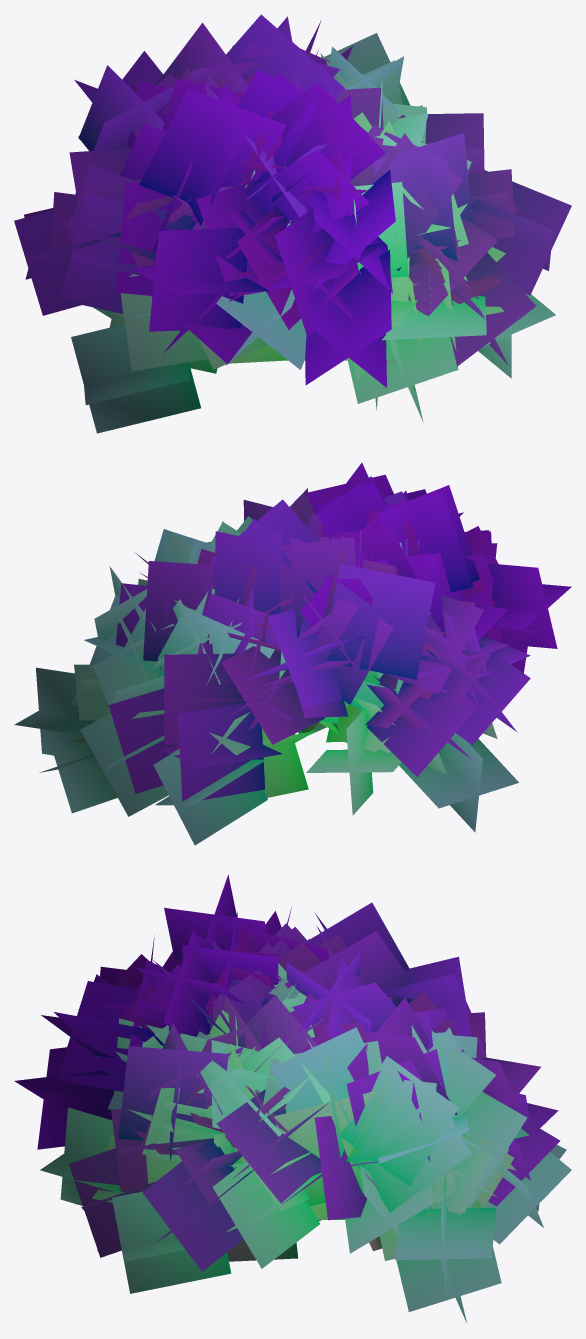
Rendered from foliage_bush_medium_001.fbx.
The picture shows the model from 3 angles, top to bottom: view 1: azimuth 30°, elevation 25°; view 2: azimuth 150°, elevation 25°; view 3: azimuth 270°, elevation 25°; orthographic projection. The views are drawn at different scales.
Parts seen in each view (by area): view 1: Tree_2; view 2: Tree_2; view 3: Tree_2.
Part boxes in pixels (<box>): Tree_2: <box>14,14,571,433</box>; Tree_2: <box>14,463,571,845</box>; Tree_2: <box>14,874,571,1322</box>.
Bounding box in the file's own units: 492 × 333 × 517.
